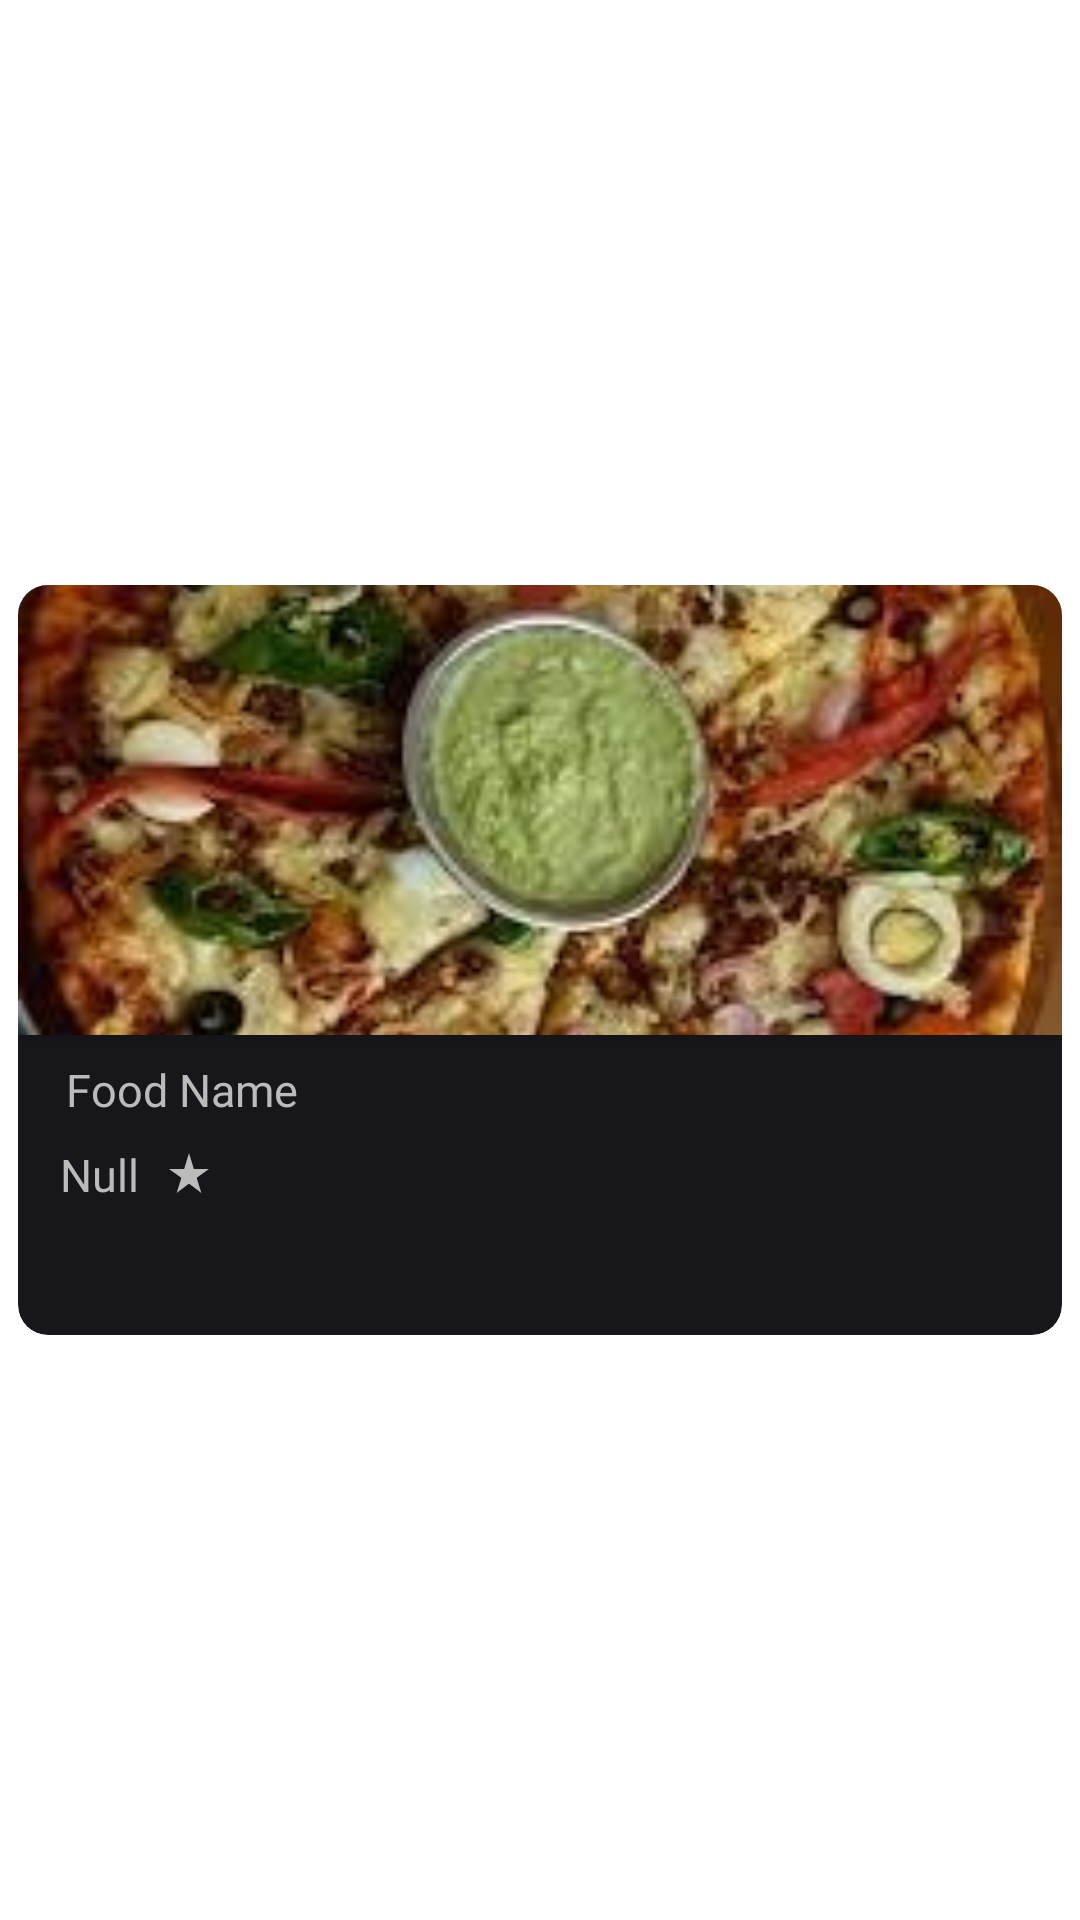

Icon click points for this 1080*1920 phone screenshot, format (x=x, y=y):
star rate: (x=189, y=1173)
